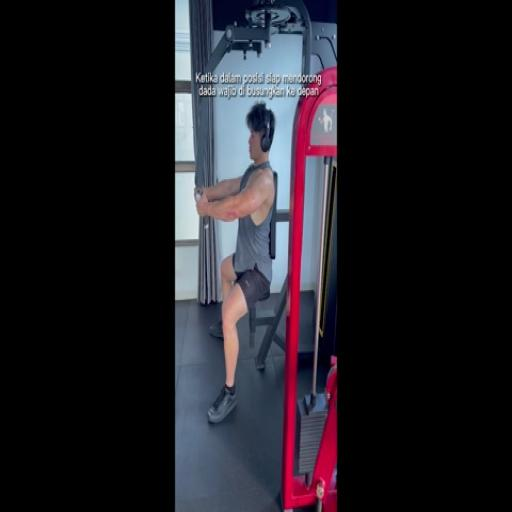exercise: (193, 100, 281, 426)
